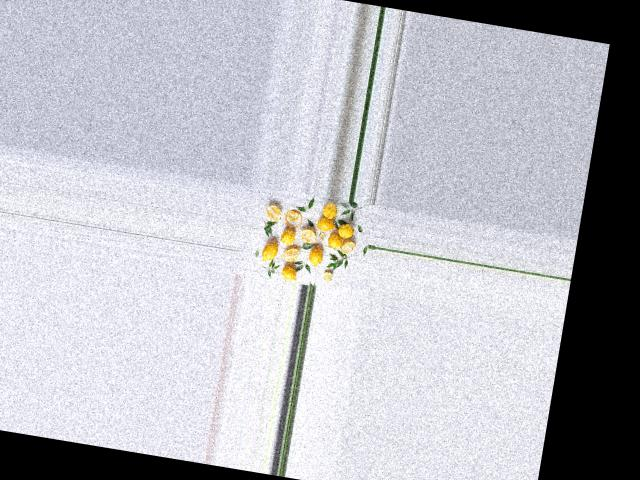lemon: (317, 202, 340, 221)
